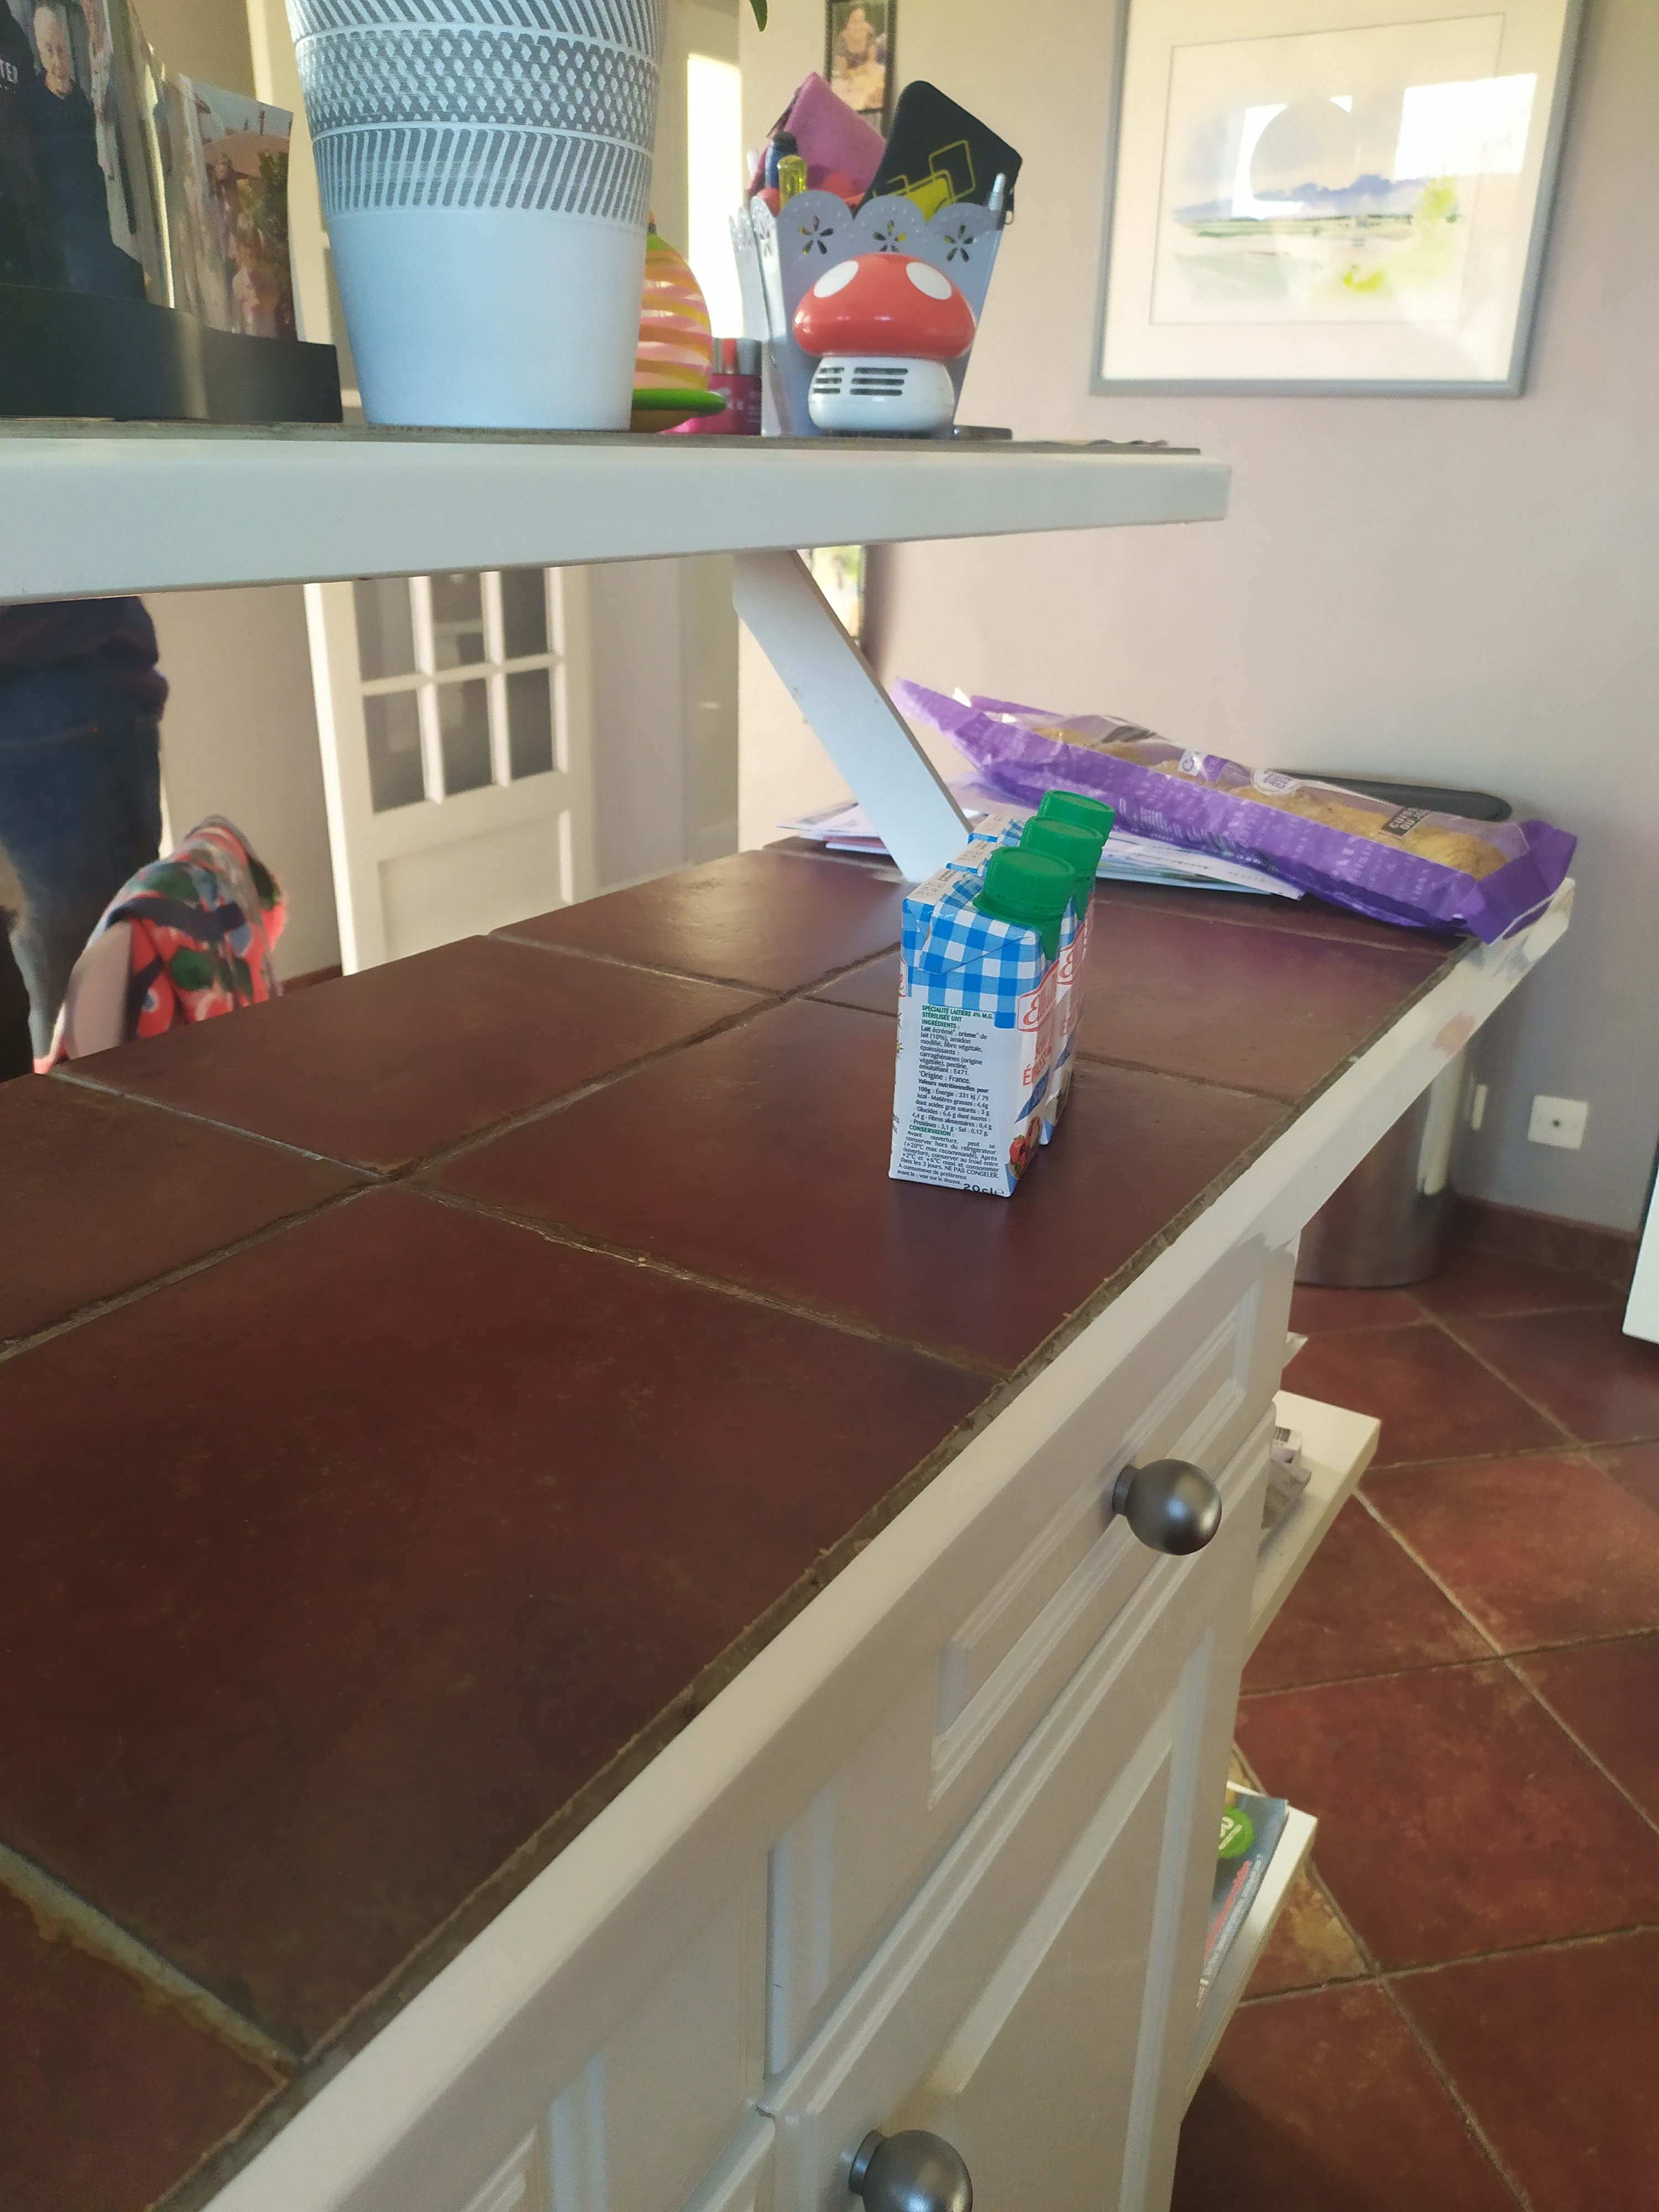cream: (884, 871, 1065, 1191), (941, 836, 1101, 1150), (950, 784, 1115, 1083)
